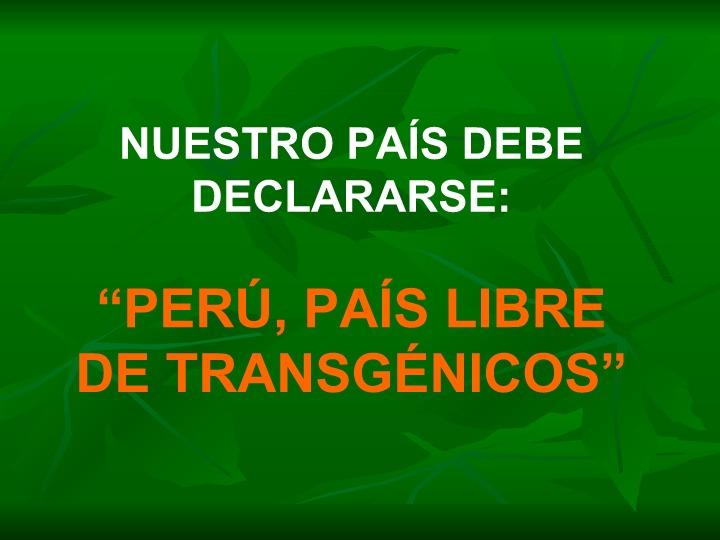title: (66, 260, 640, 422), (98, 100, 607, 227)
